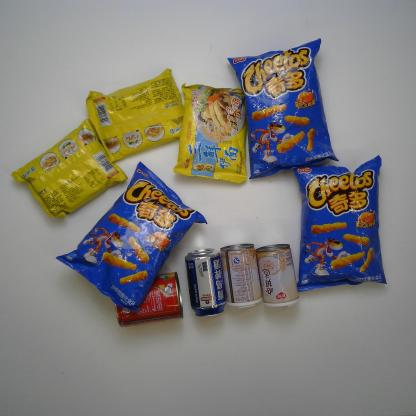Alcohol: (182, 246, 227, 319)
Canned Food: (112, 270, 186, 330), (254, 242, 302, 310), (219, 242, 264, 310)
Instant Noodles: (9, 114, 130, 222), (82, 65, 186, 166), (172, 80, 251, 186)
Puffed Food: (52, 158, 209, 314), (226, 38, 341, 180), (293, 155, 387, 292)
